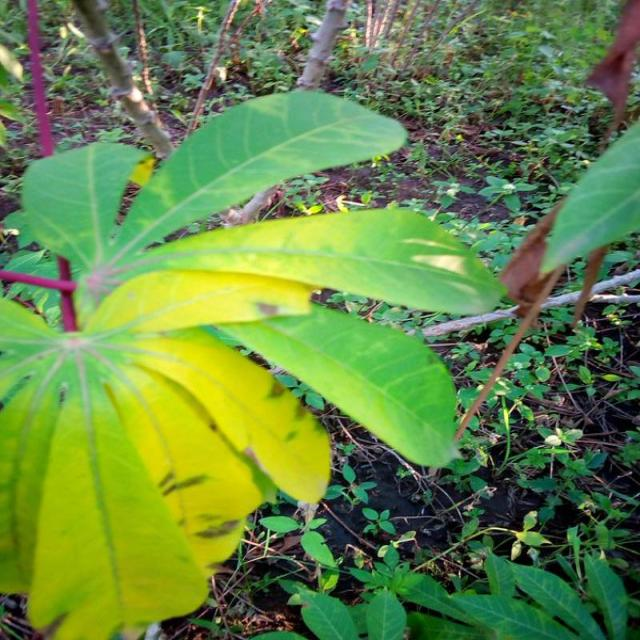cassava leaf: (0, 86, 509, 637)
